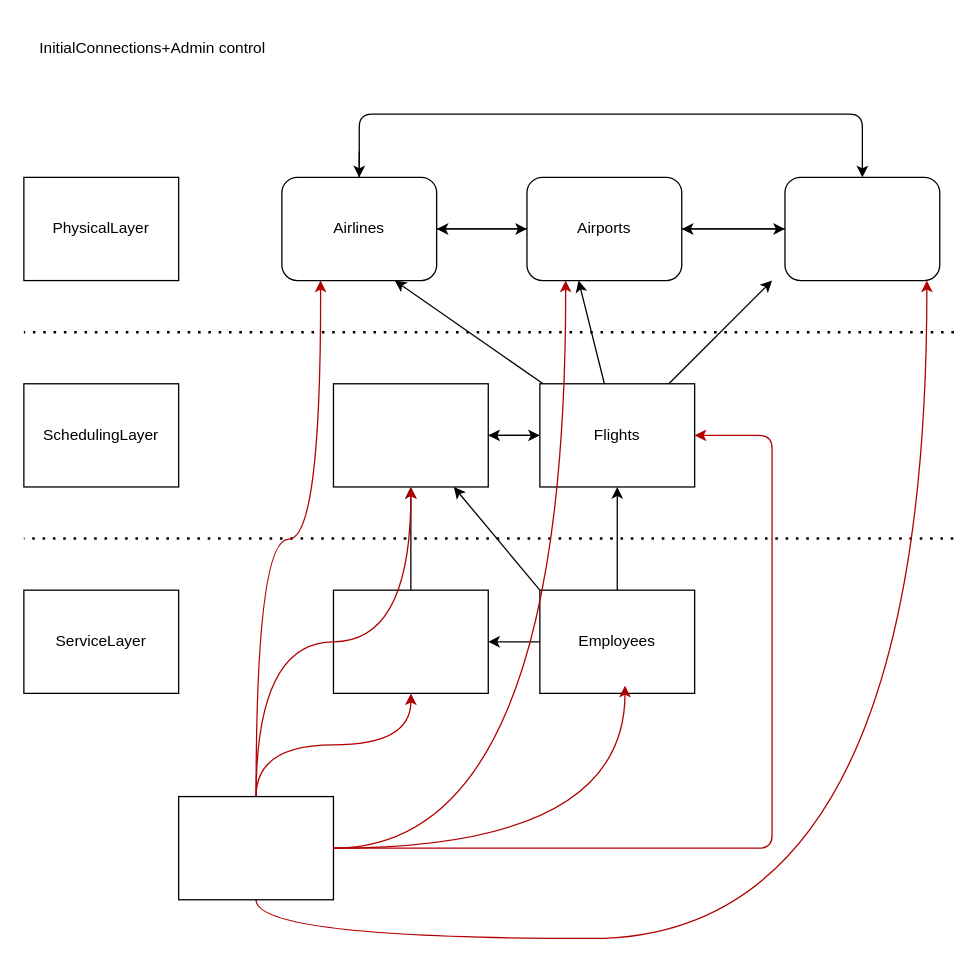
The diagram is 978 pixels wide and 961 high, and some of its shapes have lost their labels. Here are the shapes that lost their labels. From the top down, the centre of each, then its label:
(x=862, y=228): Aircrafts
(x=410, y=434): Tickets
(x=410, y=641): Customers
(x=255, y=847): Admin
